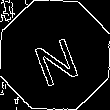N_N: (27, 24, 83, 86)
